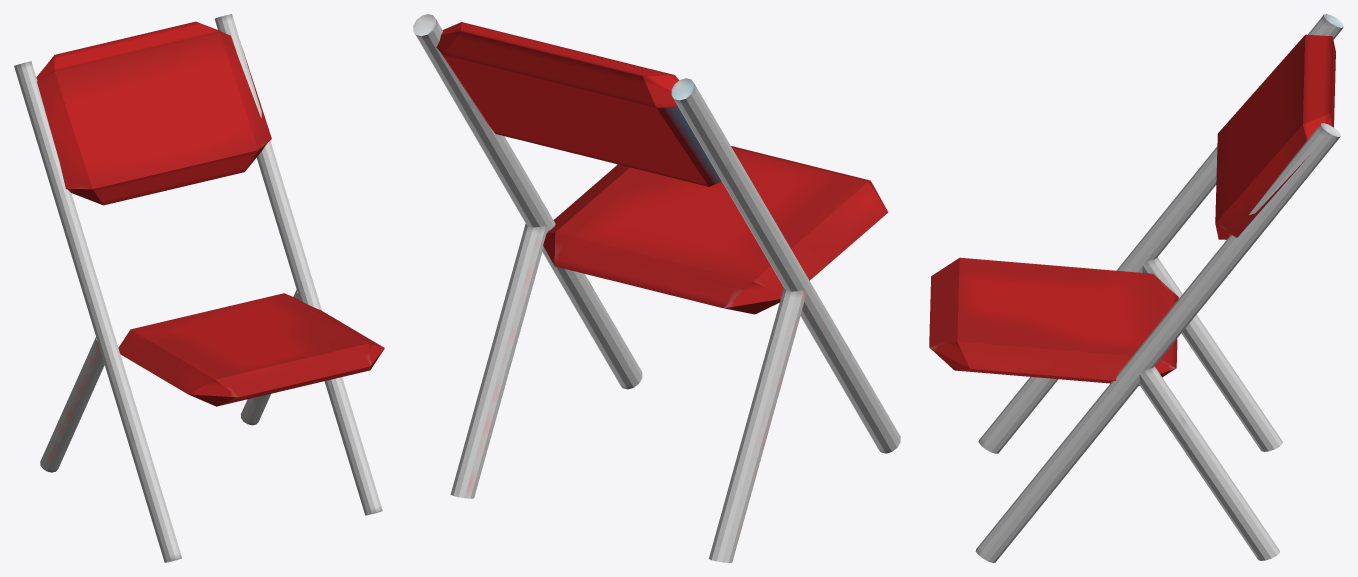
File: SillaCC.fbx
3 renders of one model, left to right at view 1: azimuth 30°, elevation 25°; view 2: azimuth 150°, elevation 25°; view 3: azimuth 270°, elevation 25°, orthographic. The views are drawn at different scales.
Parts seen in each view (by area): view 1: beveled_cuboid; view 2: beveled_cuboid; view 3: beveled_cuboid.
Part boxes in pixels (left/top/right/bottom): beveled_cuboid: left=14, top=14, right=384, bottom=562; beveled_cuboid: left=413, top=14, right=900, bottom=562; beveled_cuboid: left=929, top=14, right=1343, bottom=562.
Bounding box in the file's own units: 46.42 × 79.93 × 68.4.
Materials: 1 (1 with a texture image).
